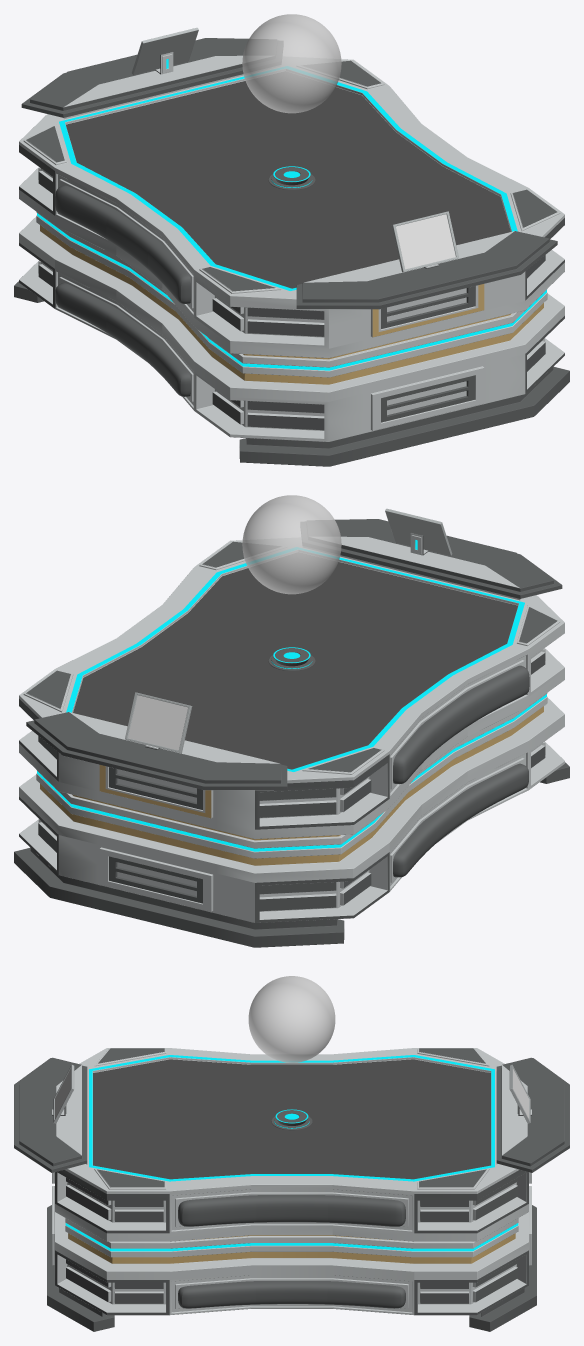
Rendered from Sci Fi Table.fbx.
3 views of the same model, one above another, from view 1: azimuth 30°, elevation 25°; view 2: azimuth 150°, elevation 25°; view 3: azimuth 270°, elevation 25° (orthographic). The views are drawn at different scales.
Parts seen in each view (by area): view 1: Table, Globe, Screen_B, Screen_A; view 2: Table, Globe, Screen_A, Screen_B; view 3: Table, Globe, Screen_A, Screen_B.
Boxes of the visible parts, <box> form: Table: <box>14,38,569,466</box>; Globe: <box>242,14,341,113</box>; Screen_B: <box>391,211,458,272</box>; Screen_A: <box>131,27,198,75</box>; Table: <box>14,519,569,947</box>; Globe: <box>242,495,341,594</box>; Screen_A: <box>125,692,192,753</box>; Screen_B: <box>385,508,452,556</box>; Table: <box>14,1048,569,1331</box>; Globe: <box>248,976,335,1062</box>; Screen_A: <box>509,1064,530,1123</box>; Screen_B: <box>53,1064,74,1123</box>.
Size of the model in its own units: 815 by 714 by 1278.
